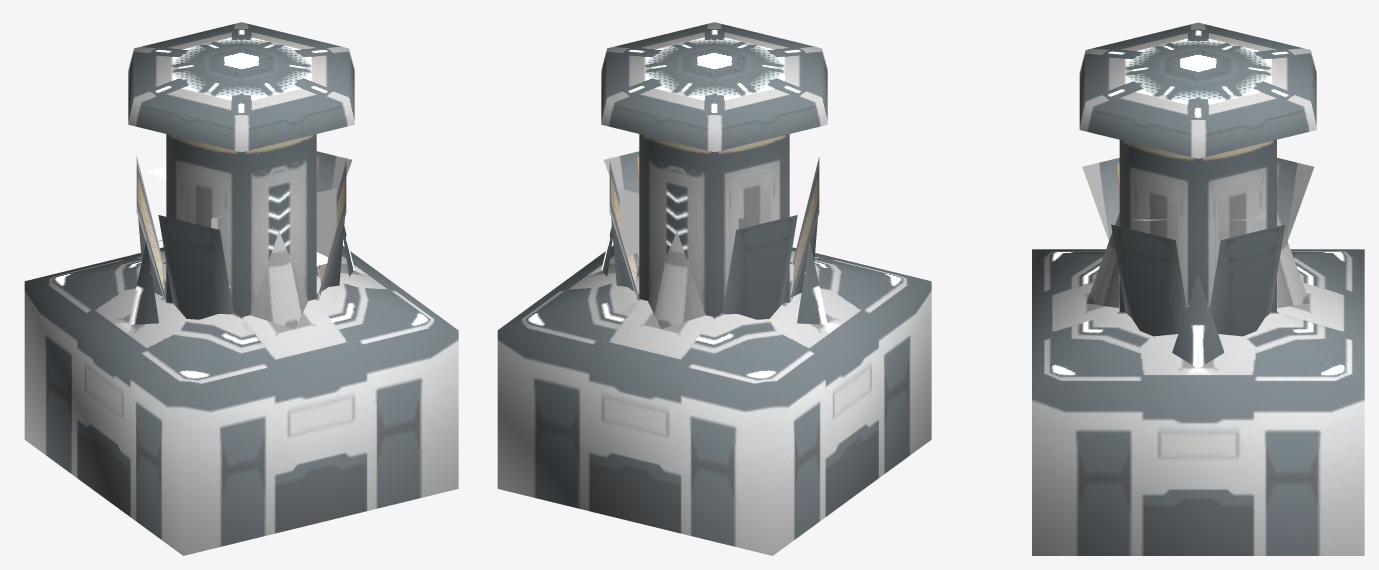
3 views of the same model, side by side, from view 1: azimuth 30°, elevation 25°; view 2: azimuth 150°, elevation 25°; view 3: azimuth 270°, elevation 25° (orthographic). The views are drawn at different scales.
Visible parts, largest first — view 1: smelter-3-lod2; view 2: smelter-3-lod2; view 3: smelter-3-lod2.
Part boxes in pixels (left/top/right/bottom): smelter-3-lod2: left=24, top=22, right=458, bottom=555; smelter-3-lod2: left=497, top=22, right=931, bottom=555; smelter-3-lod2: left=1032, top=22, right=1364, bottom=555.
Bounding box in the file's own units: 3.72 × 4.23 × 3.65.
2 materials, 1 textured.
